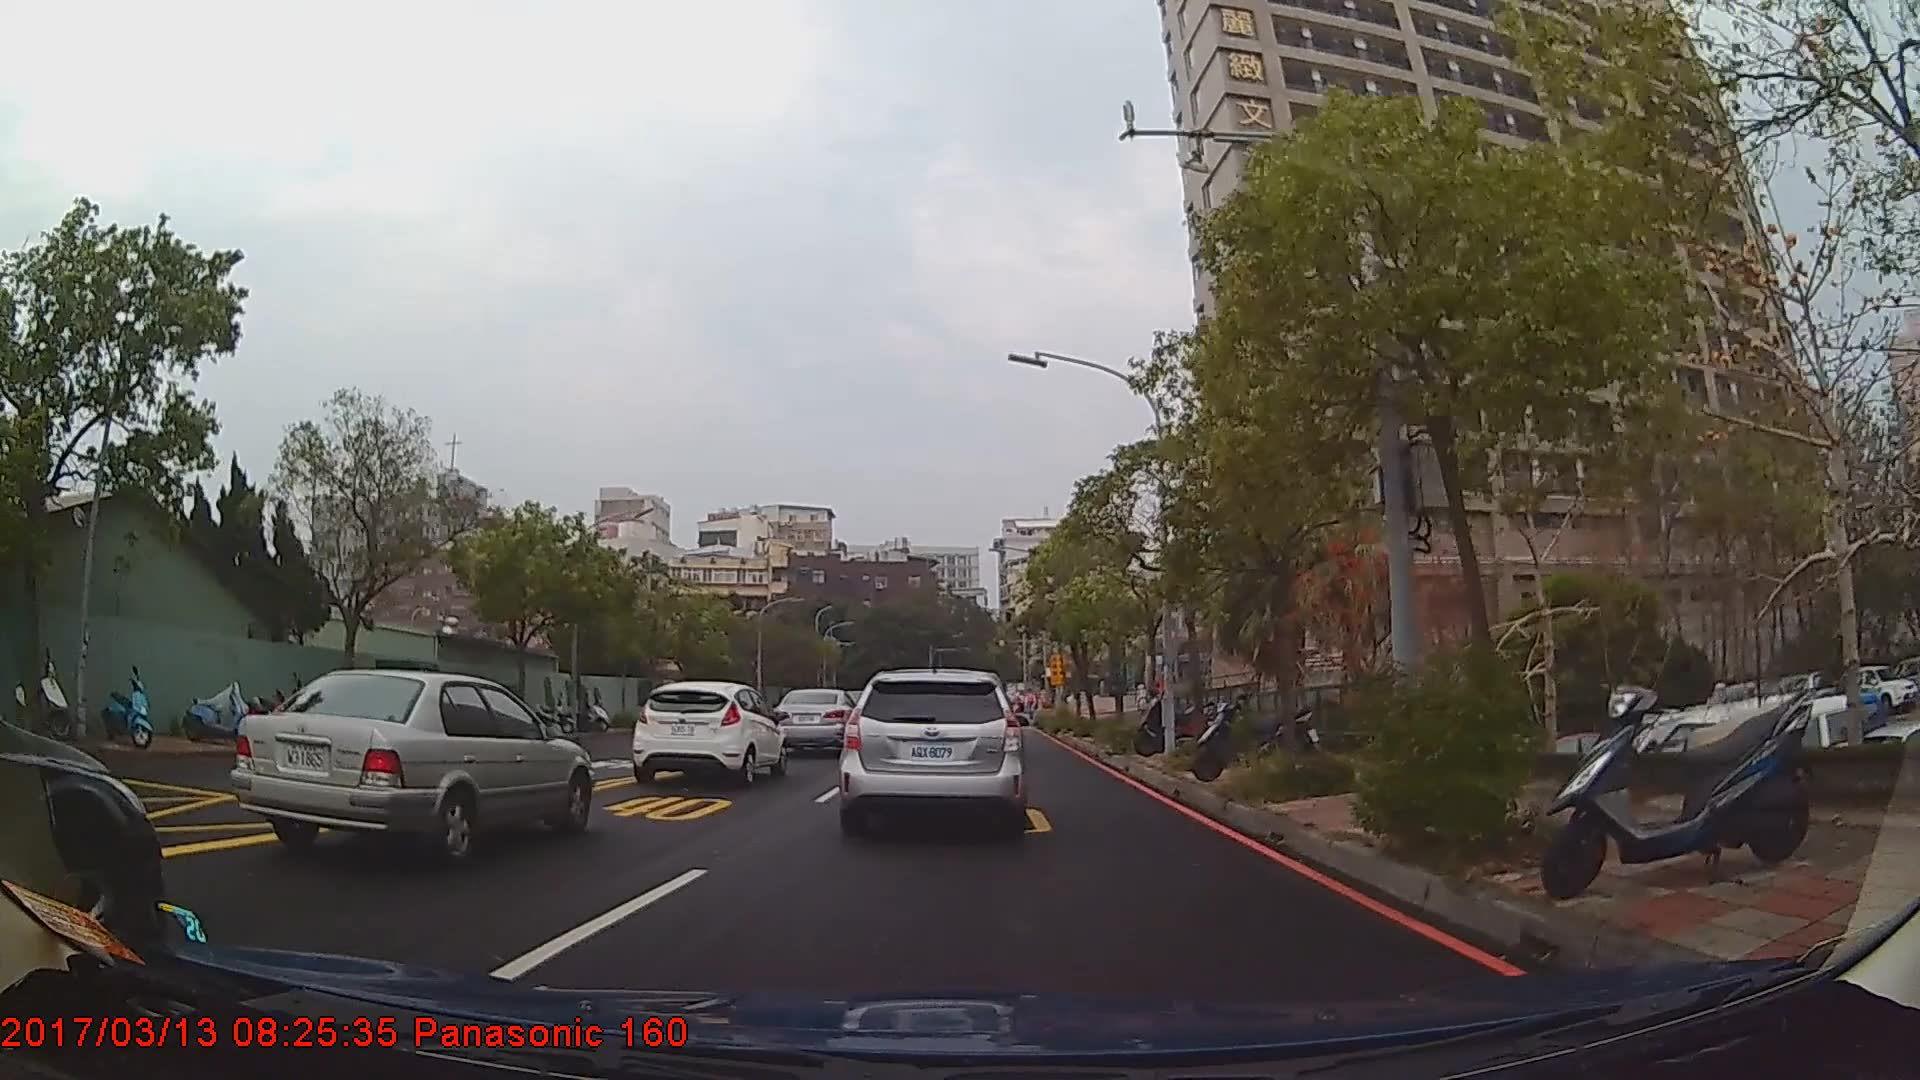vehicle: (224, 669, 595, 862), (837, 667, 1025, 827), (629, 679, 789, 782), (770, 687, 858, 753)
